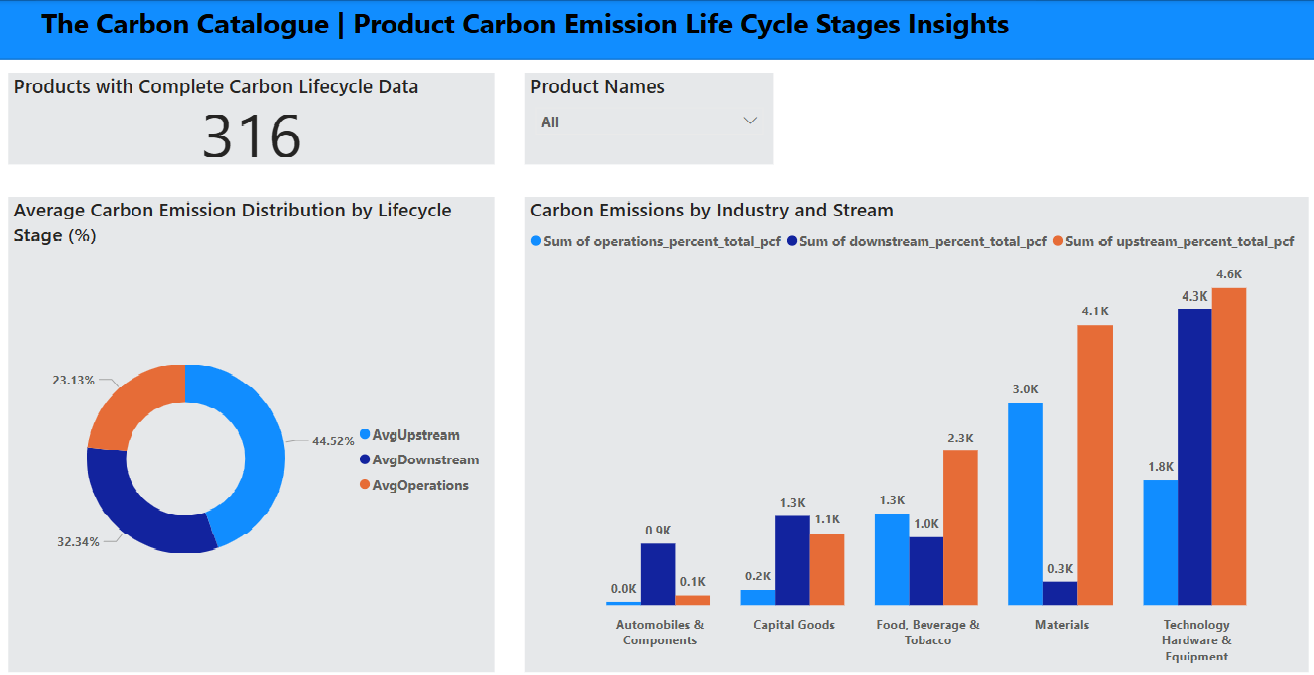

The page's visual inventory and layout, read from the dashboard file:
{"tool":"powerbi","page":{"name":"Emission by Stream ","canvas":[1280,720],"ordinal":1},"visuals":[{"type":"donutChart","title":"Average Carbon Emission Distribution by Lifecycle Stage (%)","fields":{"Y":["Carbon_foot_print.AvgUpstream","Carbon_foot_print.AvgDownstream","Carbon_foot_print.AvgOperations"]},"box":[10.9,199.1,470.5,481.4],"z":0},{"type":"clusteredColumnChart","title":"Carbon Emissions by Industry and Stream","fields":{"Category":["Carbon_foot_print.industry_group"],"Y":["Sum(Carbon_foot_print.operations_percent_total_pcf)","Sum(Carbon_foot_print.downstream_percent_total_pcf)","Sum(Carbon_foot_print.upstream_percent_total_pcf)"]},"box":[510.3,199.1,757.6,481.4],"z":1000},{"type":"slicer","title":"Product Names","fields":{"Values":["Carbon_foot_print.product_name"]},"box":[510.3,73.6,240.1,92.9],"z":2000},{"type":"shape","box":[0,0,1280.4,60.4],"z":3000},{"type":"textbox","box":[37.4,0,967.6,60.3],"z":4000},{"type":"card","title":"Products with Complete Carbon Lifecycle Data","fields":{"Values":["Count(Carbon_foot_print.product_name)"]},"box":[10.9,73.6,470.5,92.9],"z":5000}]}

Visuals, with their boxes on the page's 1280x720 design canvas (x1, y1, x2, y2). These are canvas units, not pixel positions in the 1314x675 screenshot, which may show the page scaled, cropped or inside an application window:
"Average Carbon Emission Distribution by Lifecycle Stage (%)" donutChart: <bbox>11, 199, 481, 680</bbox>
"Carbon Emissions by Industry and Stream" clusteredColumnChart: <bbox>510, 199, 1268, 680</bbox>
"Product Names" slicer: <bbox>510, 74, 750, 166</bbox>
shape: <bbox>0, 0, 1280, 60</bbox>
textbox: <bbox>37, 0, 1005, 60</bbox>
"Products with Complete Carbon Lifecycle Data" card: <bbox>11, 74, 481, 166</bbox>
